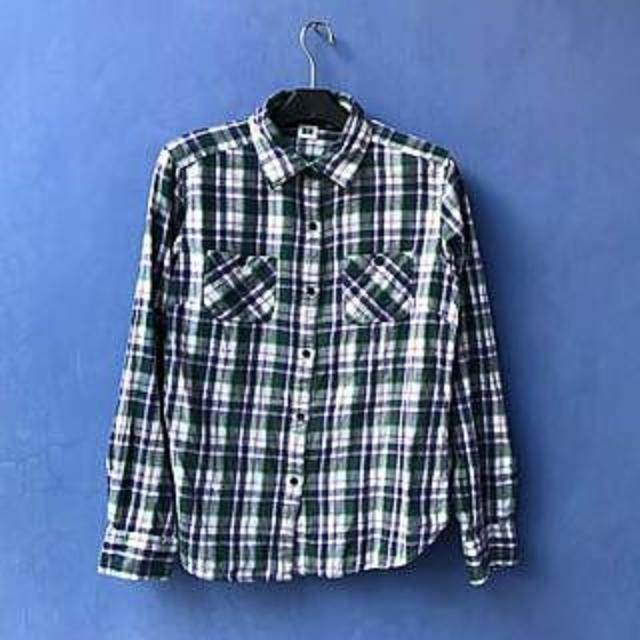SHIRT: (77, 86, 530, 596)
